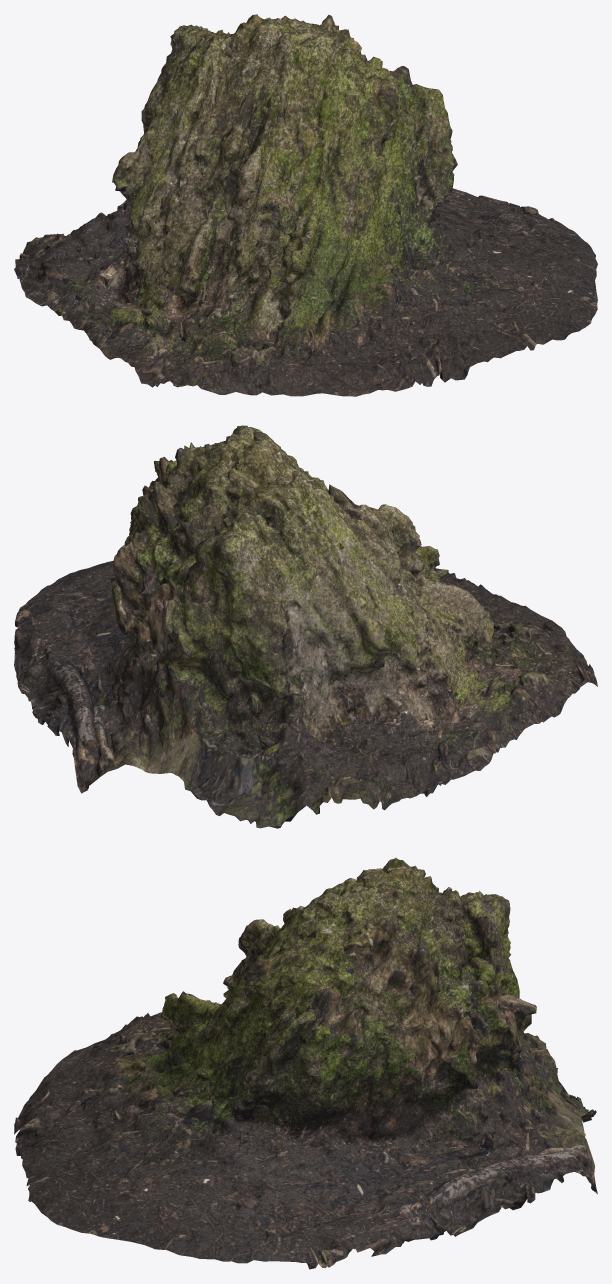
The model's file is PX_Stump_11_LOD0.fbx.
3 renders of one model, top to bottom at view 1: azimuth 30°, elevation 25°; view 2: azimuth 150°, elevation 25°; view 3: azimuth 270°, elevation 25°, orthographic. The views are drawn at different scales.
Parts seen in each view (by area): view 1: PX_Stump_11_LOD0; view 2: PX_Stump_11_LOD0; view 3: PX_Stump_11_LOD0.
Part boxes in pixels (left/top/right/bottom): PX_Stump_11_LOD0: left=14, top=14, right=597, bottom=396; PX_Stump_11_LOD0: left=14, top=425, right=597, bottom=828; PX_Stump_11_LOD0: left=14, top=857, right=597, bottom=1269.
Bounding box in the file's own units: 55.33 × 29.6 × 53.39.
